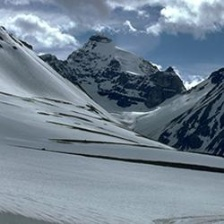neutral: (3, 3, 223, 222)
